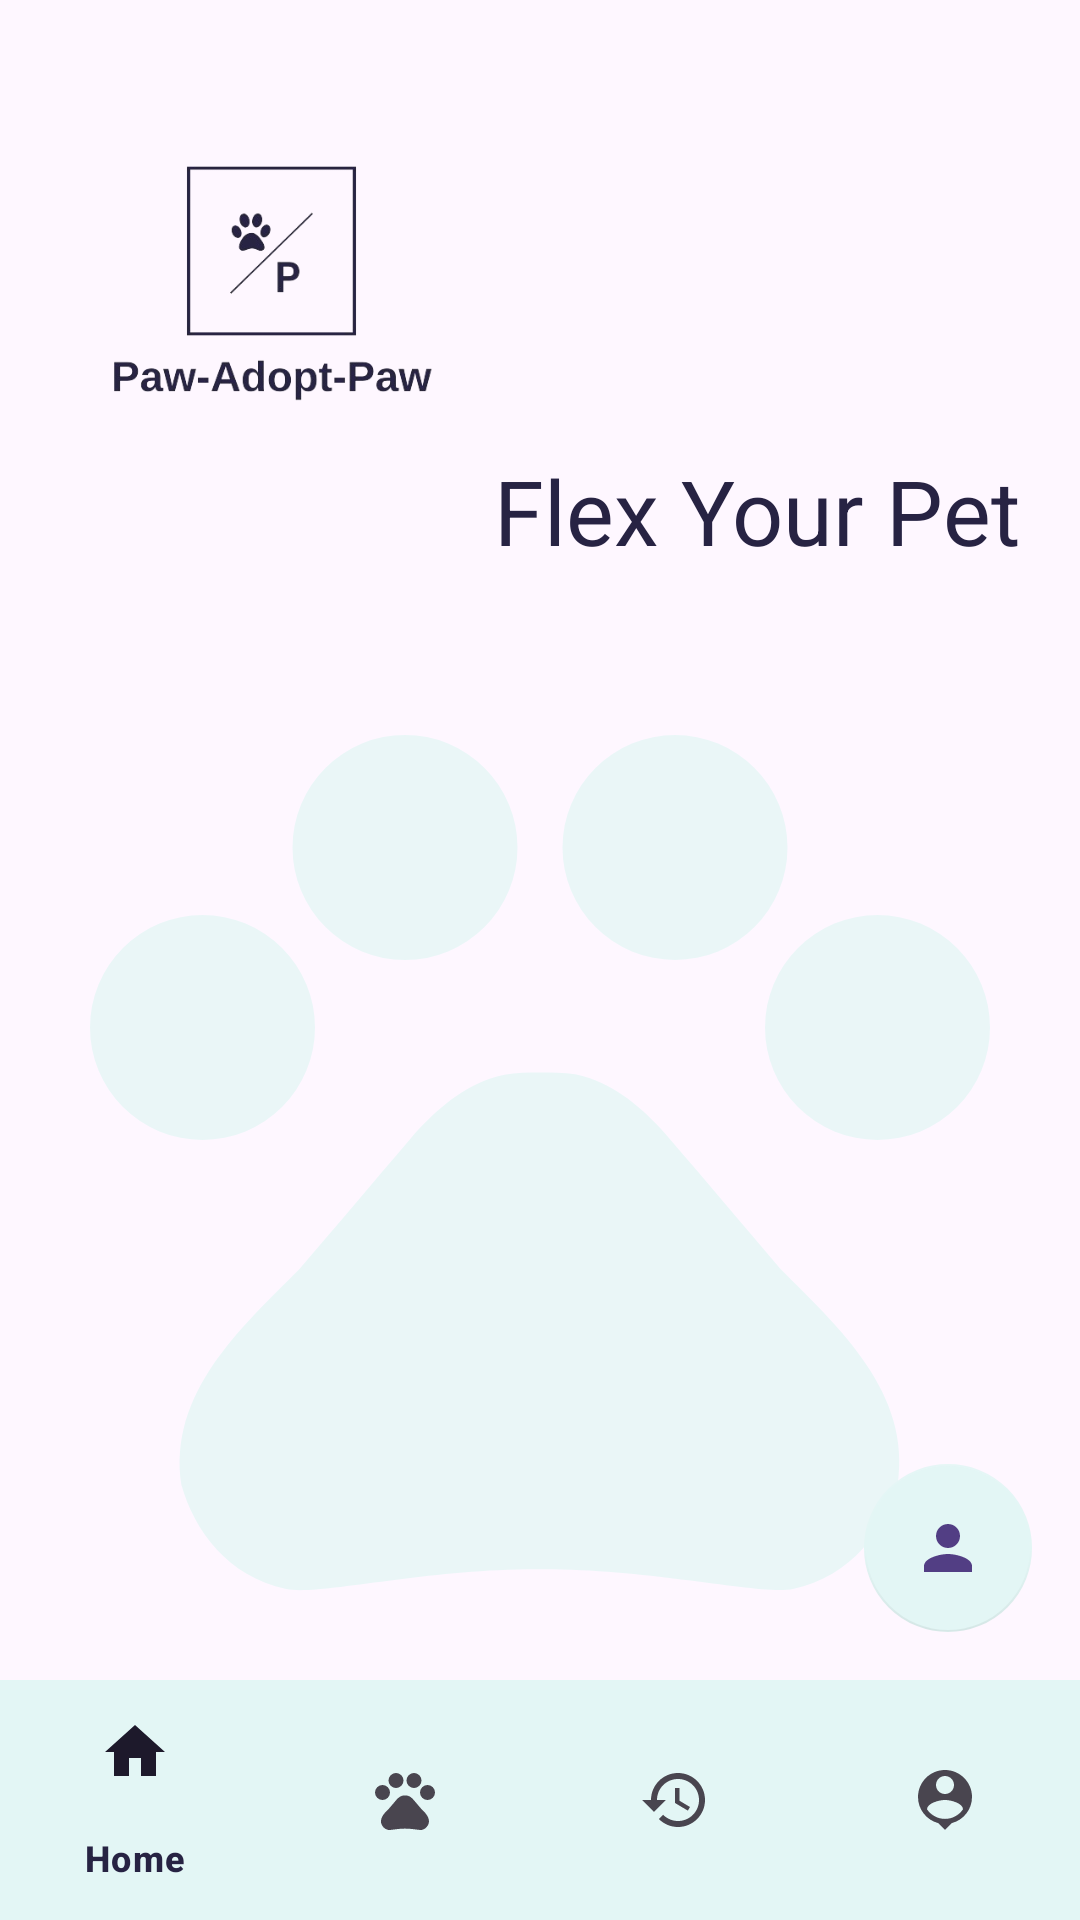

Screen size 1080*1920. Icon name, then its box in pixels as detection(x1, y1, x2, y2):
pet flex profile: detection(864, 1466, 1032, 1632)
